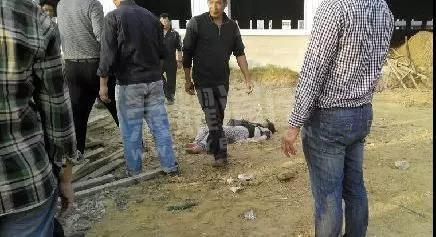Fall-Detected: (174, 106, 277, 156)
